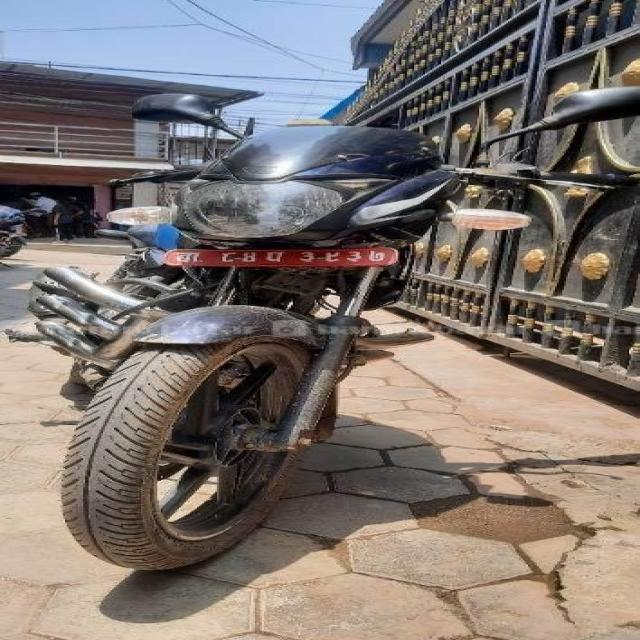License-plate: (141, 243, 394, 267)
